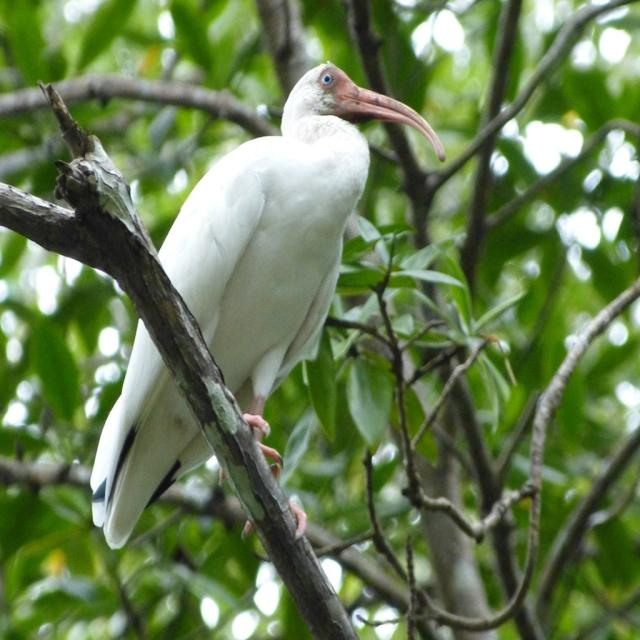bird: (66, 67, 445, 545)
